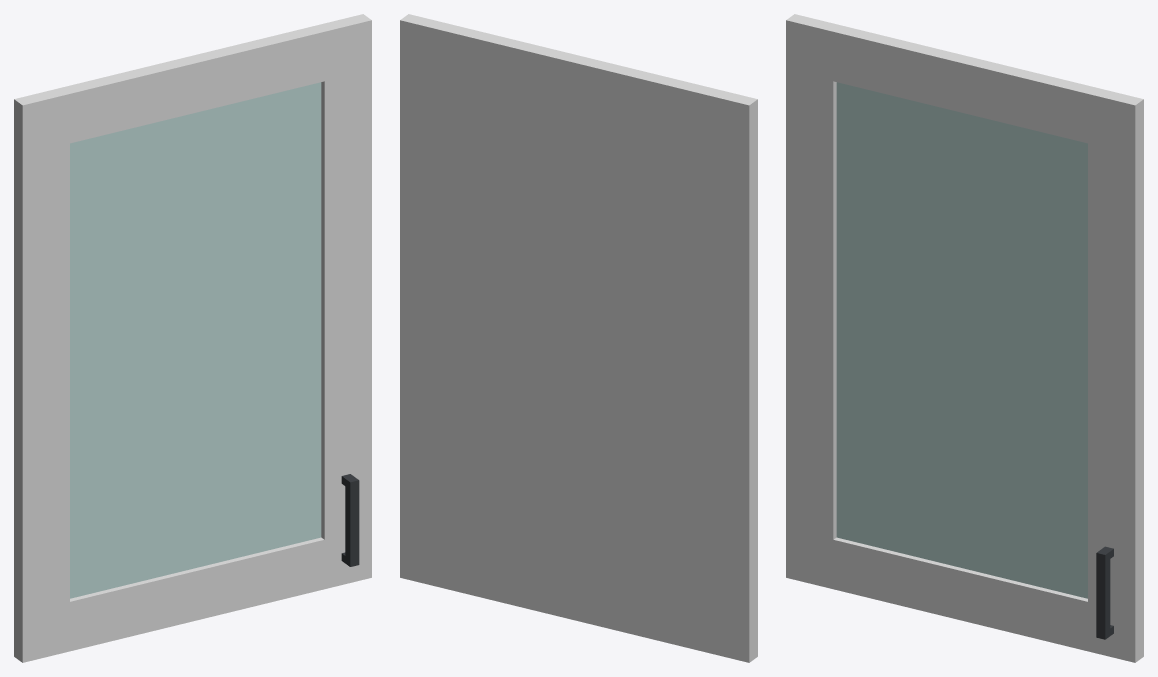
File: BathroomDoor_C1_05.fbx
3 renders of one model, left to right at view 1: azimuth 30°, elevation 25°; view 2: azimuth 150°, elevation 25°; view 3: azimuth 330°, elevation 25°, orthographic.
Visible parts, largest first — view 1: BathroomDoor_C1_05; view 2: BathroomDoor_C1_05; view 3: BathroomDoor_C1_05.
Boxes of the visible parts, <box> form: BathroomDoor_C1_05: <box>14,14,371,662</box>; BathroomDoor_C1_05: <box>400,14,757,662</box>; BathroomDoor_C1_05: <box>786,14,1143,662</box>.
Bounding box in the file's own units: 59 × 90 × 5.03.
